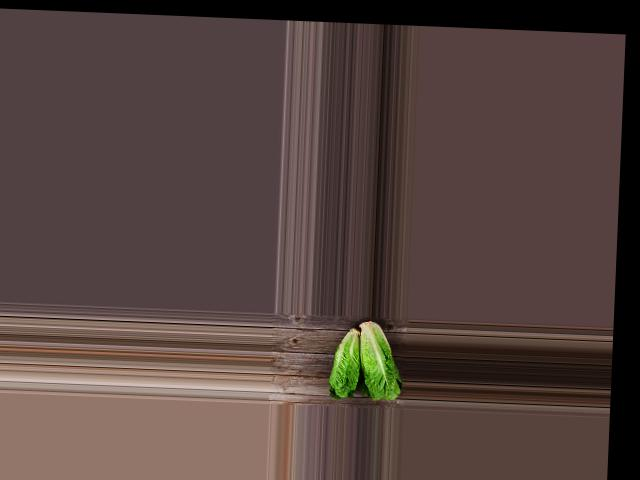lettuce: (356, 317, 406, 404)
